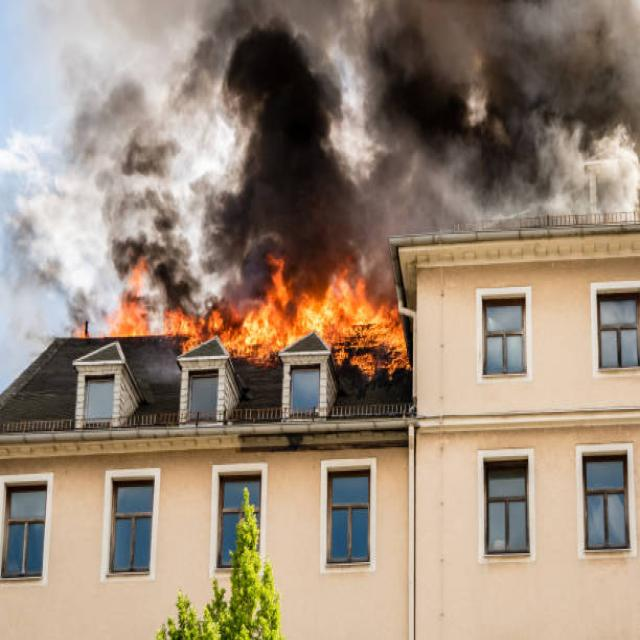fire: (73, 247, 411, 378)
